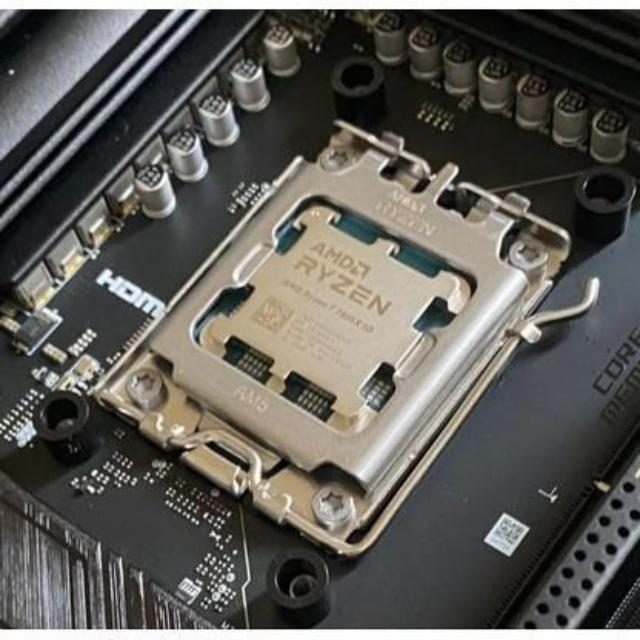CPU: (202, 203, 469, 429)
